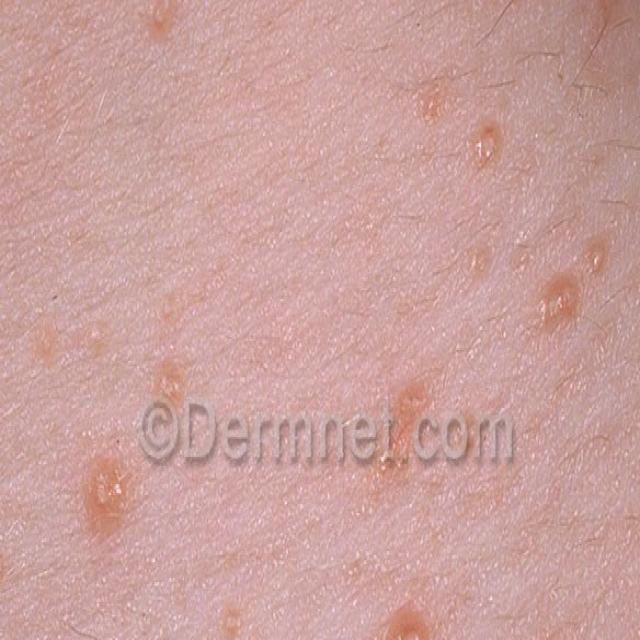Viral Infections: (342, 361, 474, 503), (514, 214, 629, 362), (350, 558, 477, 640), (75, 434, 145, 564), (124, 0, 208, 86), (33, 312, 121, 383), (151, 333, 212, 431), (462, 109, 514, 182), (212, 589, 253, 640), (0, 544, 19, 596)
